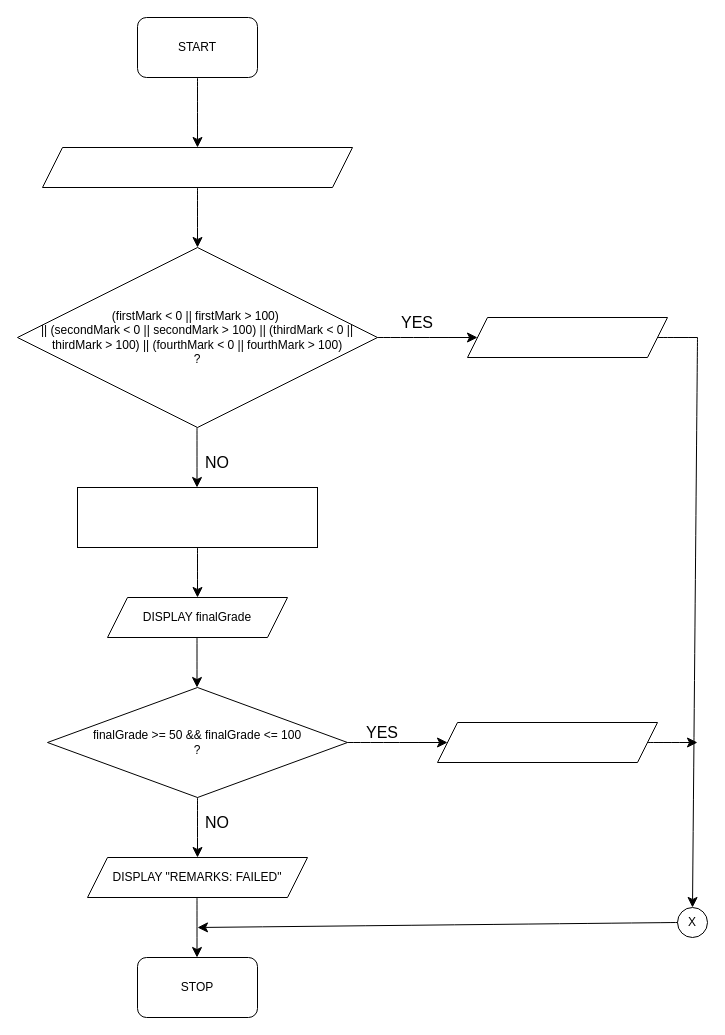
Some shapes in this 725 by 1035 pixel diagram are drawn without their labels. Each missing label, with the centre of its shape:
COMPUTE finalGrade = (firstMark + secondMark + thirdMark + fourthMark) / 4: [197,517]
DISPLAY "INVALID INPUT!": [567,337]
DISPLAY "REMARKS: PASSED": [547,742]
GET firstMark, secondMark, thirdMark, fourthMark: [197,167]
